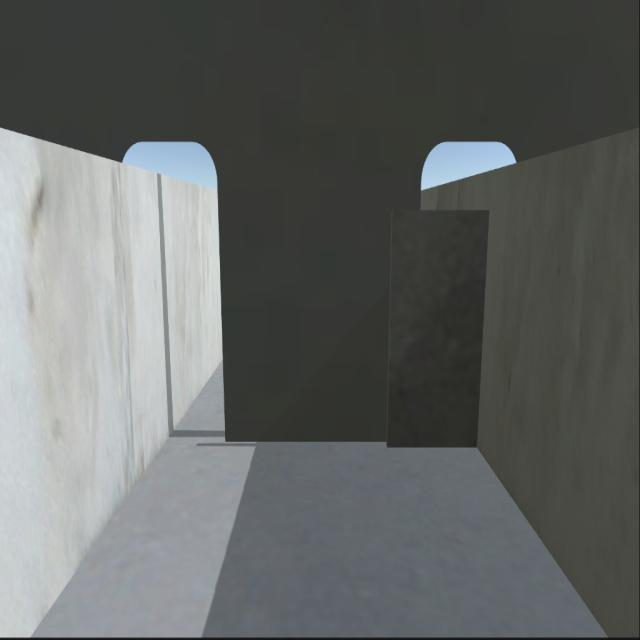fillet_yong_jeop_jang: (224, 439, 478, 448)
longi_yong_jeop_jang: (472, 216, 488, 442)
plate_CP05: (392, 212, 486, 447)
